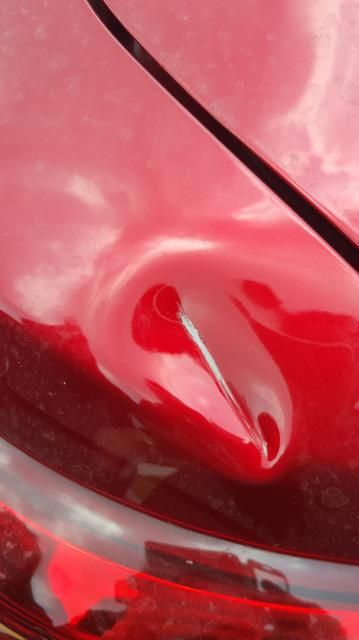Fender: (52, 222, 348, 529)
